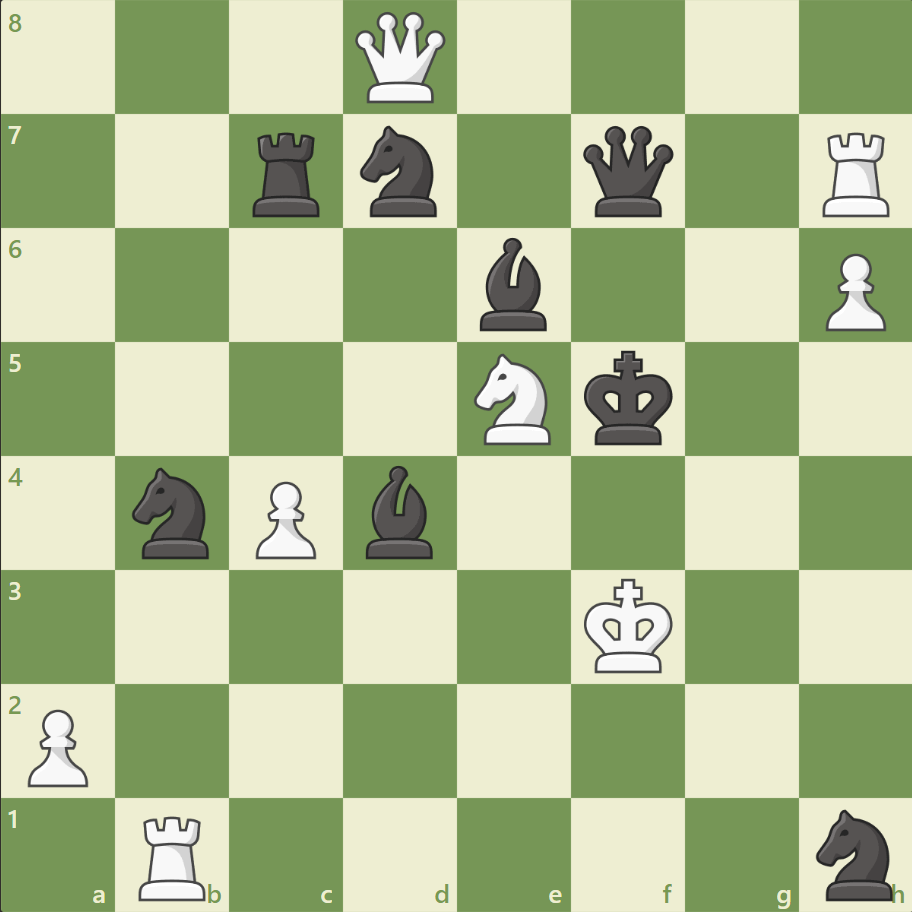K: (579, 571, 679, 679)
N: (465, 348, 562, 450)
P: (247, 473, 322, 564), (20, 700, 95, 791), (815, 246, 889, 337)
Q: (351, 9, 450, 108)
R: (814, 125, 897, 222), (133, 806, 215, 904)
b: (471, 233, 555, 336), (358, 460, 442, 563)
k: (579, 344, 679, 452)
n: (124, 461, 222, 564), (351, 121, 449, 223), (806, 802, 903, 904)
q: (578, 122, 677, 222)
r: (246, 125, 329, 222)
